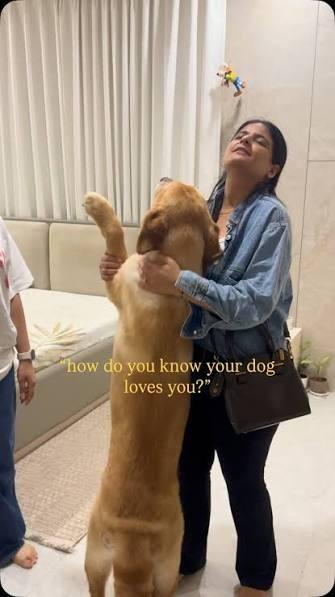adult_dog: (82, 176, 220, 597)
non-dog: (102, 114, 296, 597), (0, 217, 38, 570)
